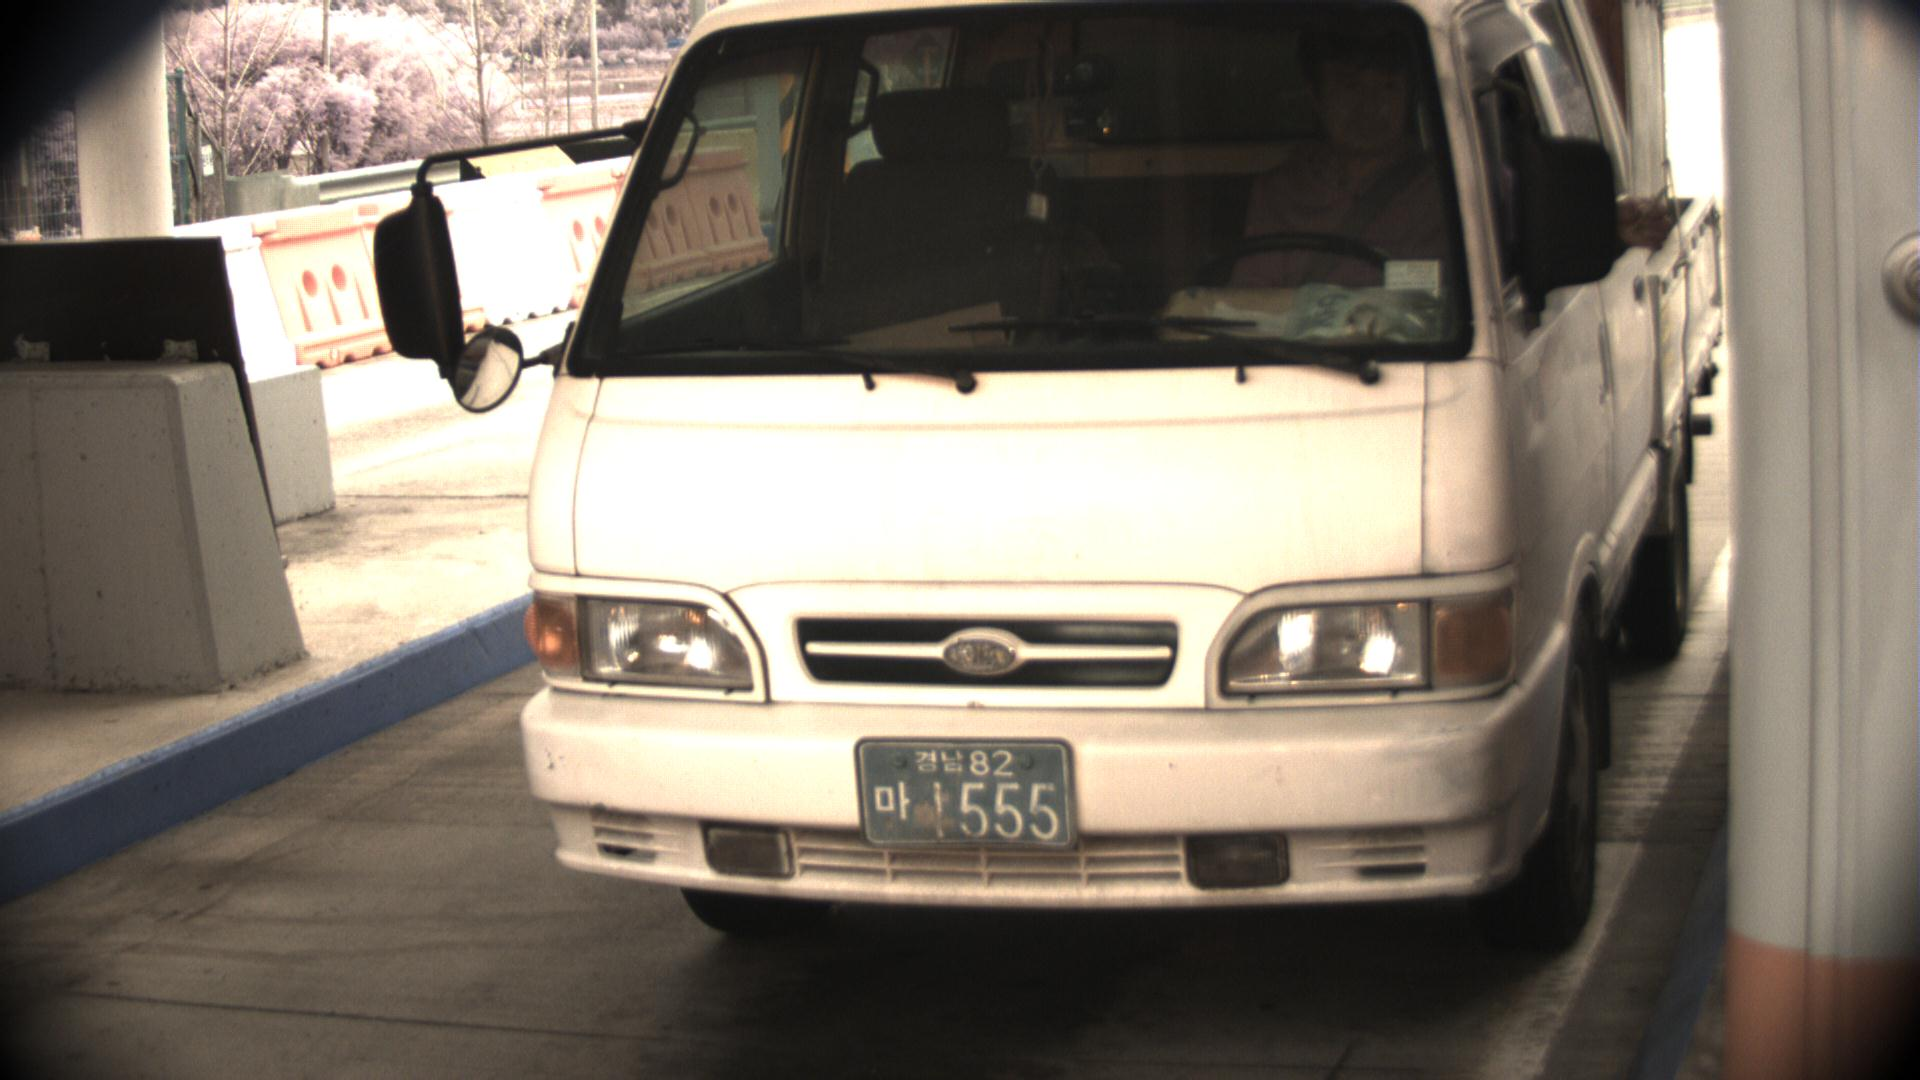car: (368, 1, 1729, 957)
plate: (850, 730, 1086, 858)
